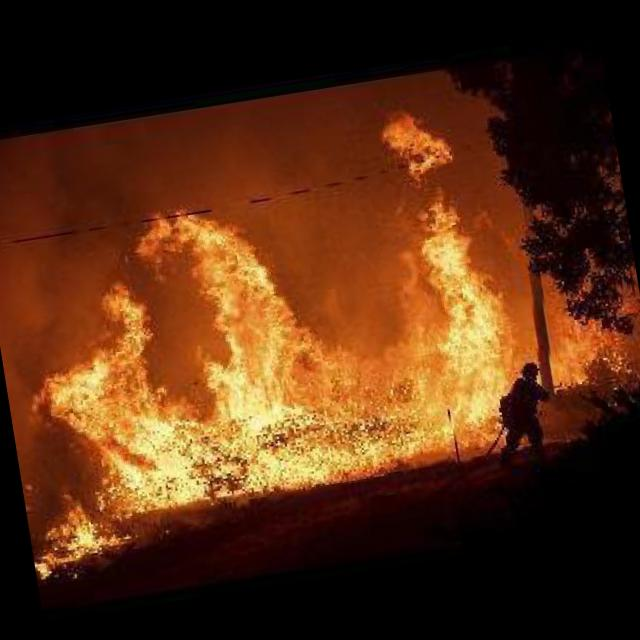fire: (0, 77, 628, 569)
